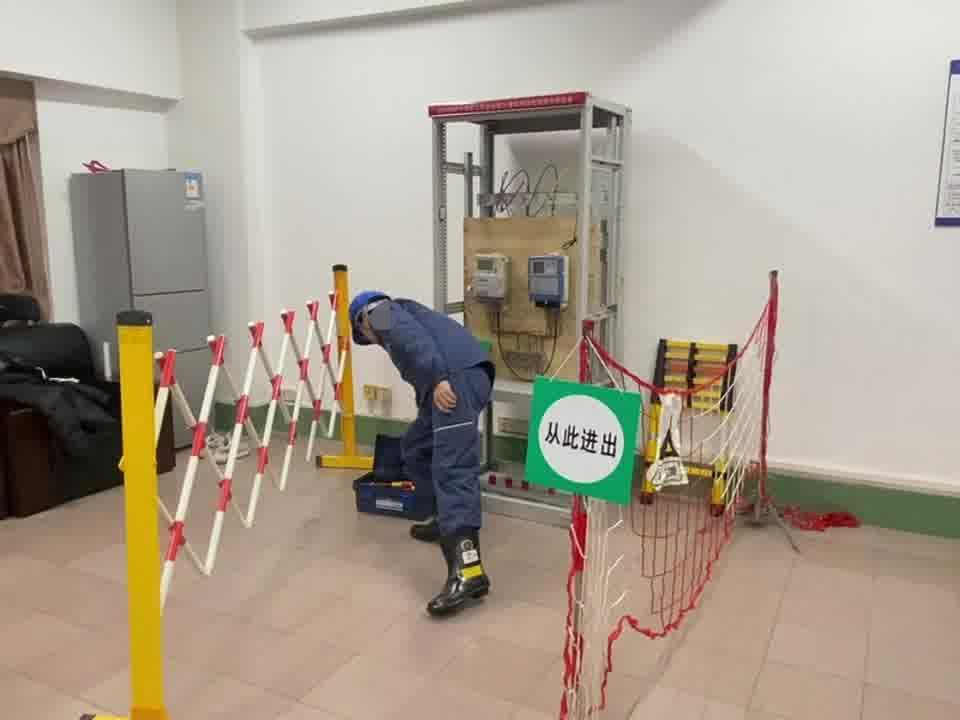halt: (350, 291, 392, 350)
